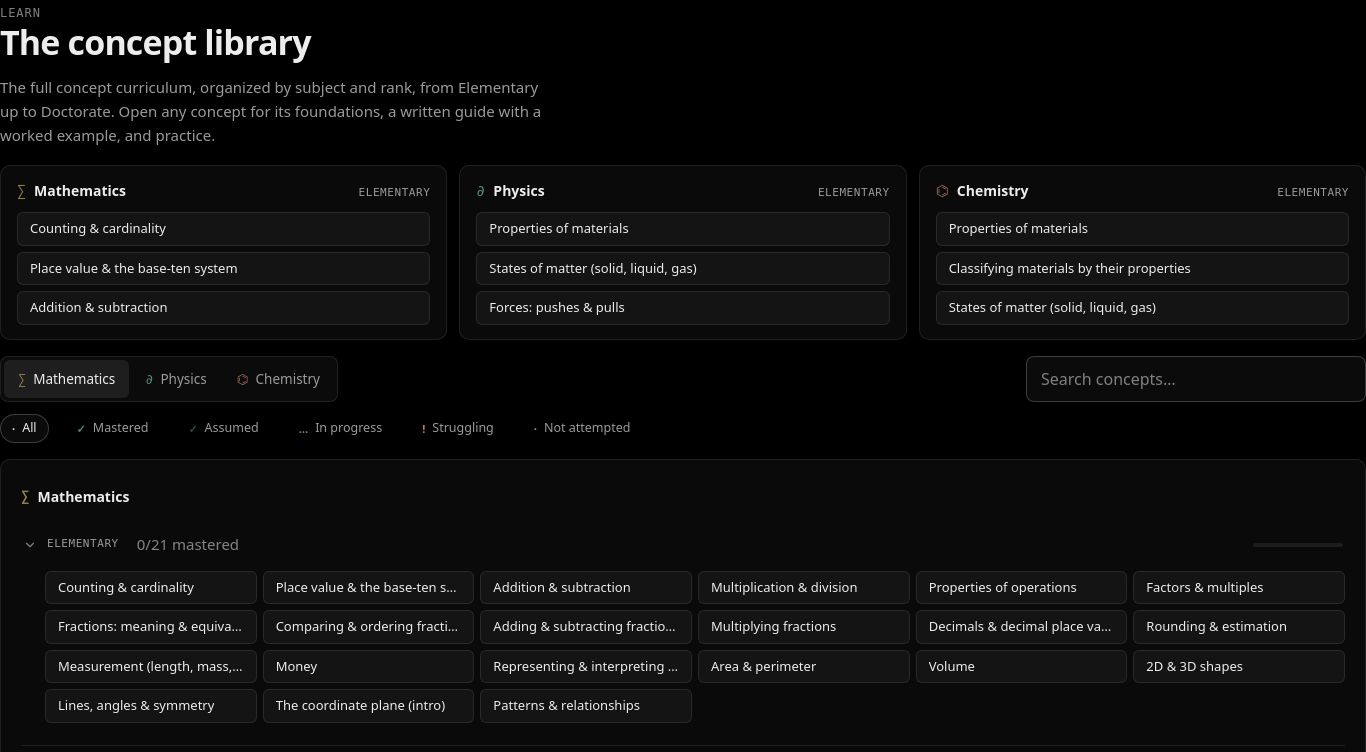
LearnTab — curriculum listing › search surfaces concepts across subjects and ranks
The image size is (1366, 752).
In the search field labelled "Search concepts…": x=1196, y=379 top-left (1026, 356), bottom-right (1365, 402), type "stoichiometry"
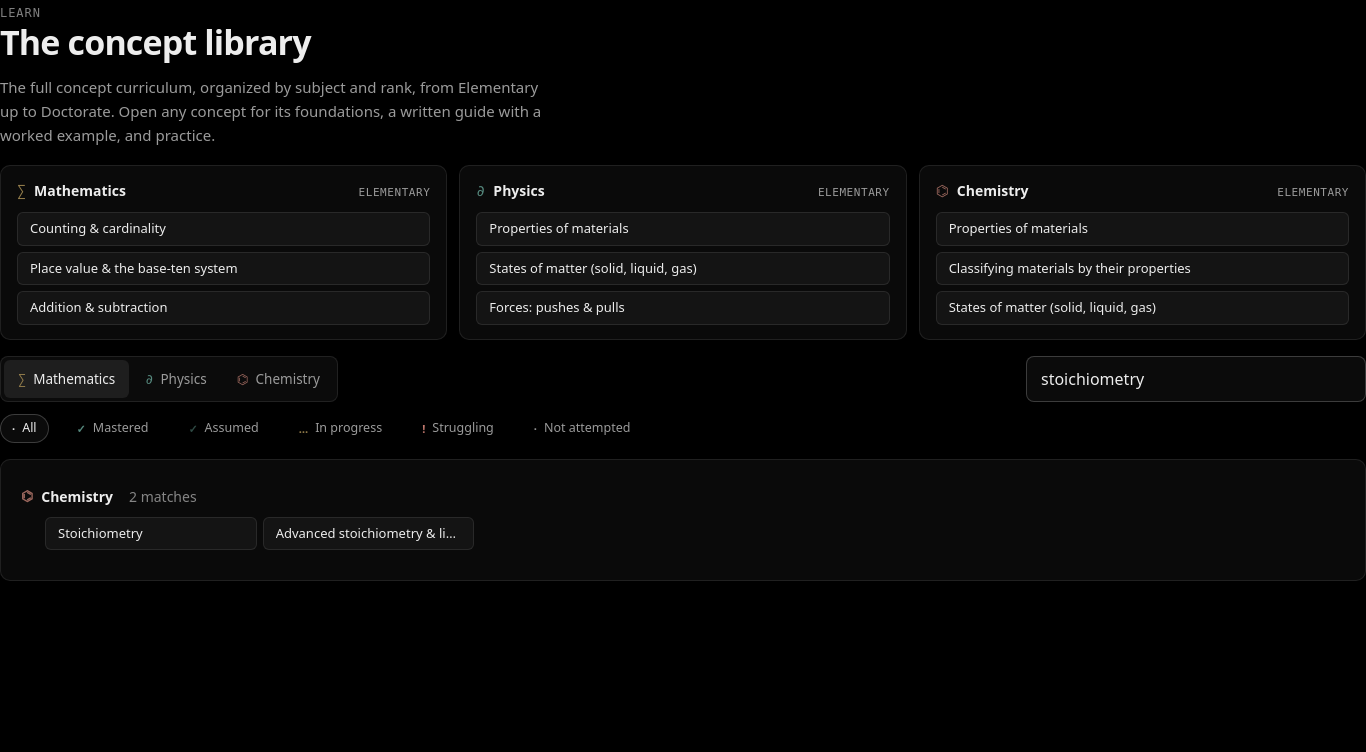
expect the button "Stoichiometry" is shown: met, box top-left (45, 517), bottom-right (257, 550)
Replace the text in the search field named "Search concepts" with "zzz-no-such-concept": x=1196, y=379 top-left (1026, 356), bottom-right (1365, 402)
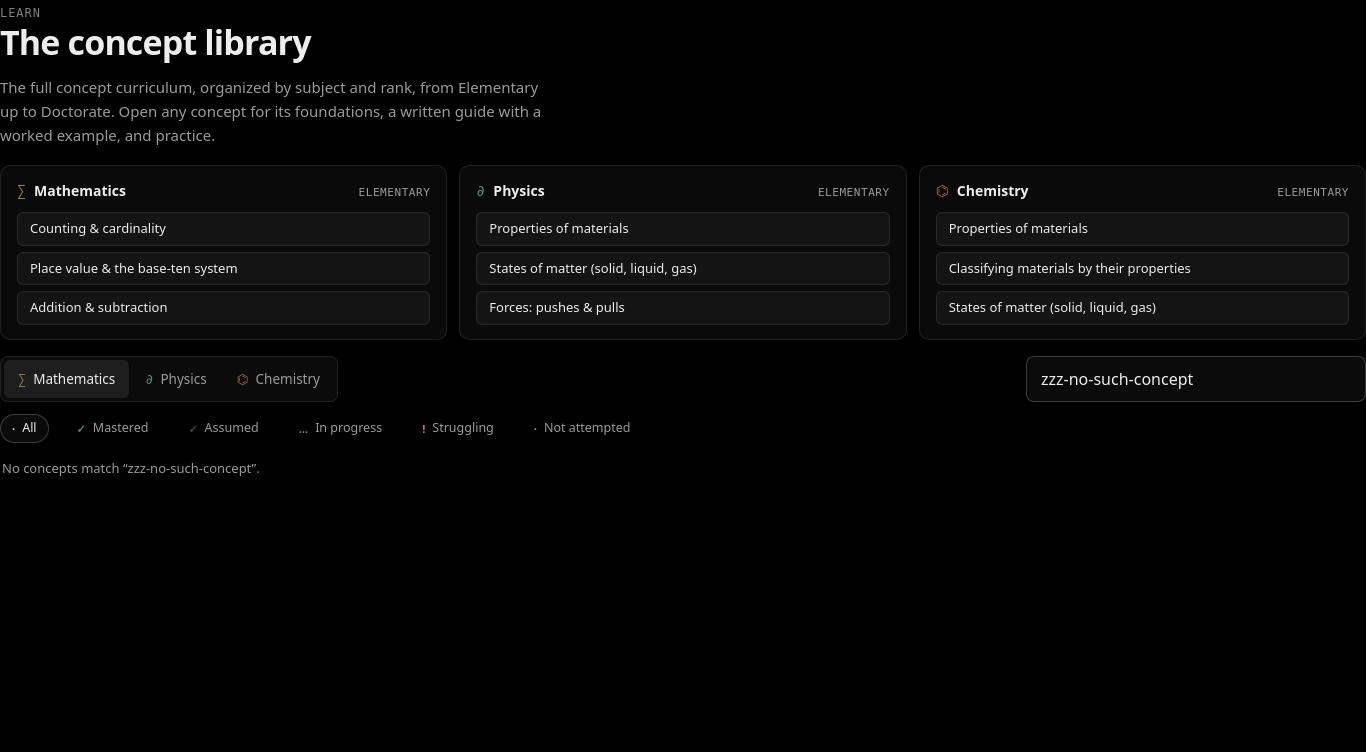
expect the text "No concepts match “zzz-no-such-concept”." is shown: met, box top-left (2, 459), bottom-right (260, 477)
